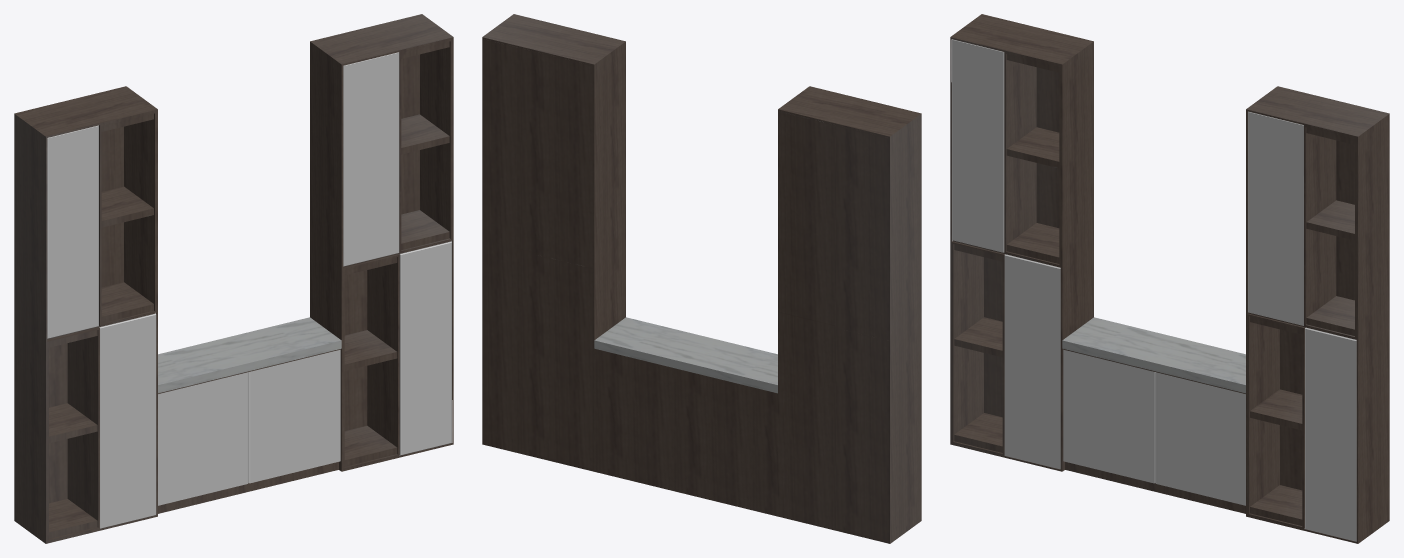
File: Bookcase_jewelry_Armoire_e2afc742-8e0f-5f2d-beed-b743ed342263.glb
The picture shows the model from 3 angles, left to right: view 1: azimuth 30°, elevation 25°; view 2: azimuth 150°, elevation 25°; view 3: azimuth 330°, elevation 25°; orthographic projection.
Visible parts, largest first — view 1: raw_model.obj; view 2: raw_model.obj; view 3: raw_model.obj.
Boxes of the visible parts, x1,y1,x2,y2 form: raw_model.obj: (14,14,453,543); raw_model.obj: (482,14,921,543); raw_model.obj: (950,14,1389,543).
Size of the model in its own units: 2.6 by 2.48 by 0.3503.
1 material, 1 textured.
